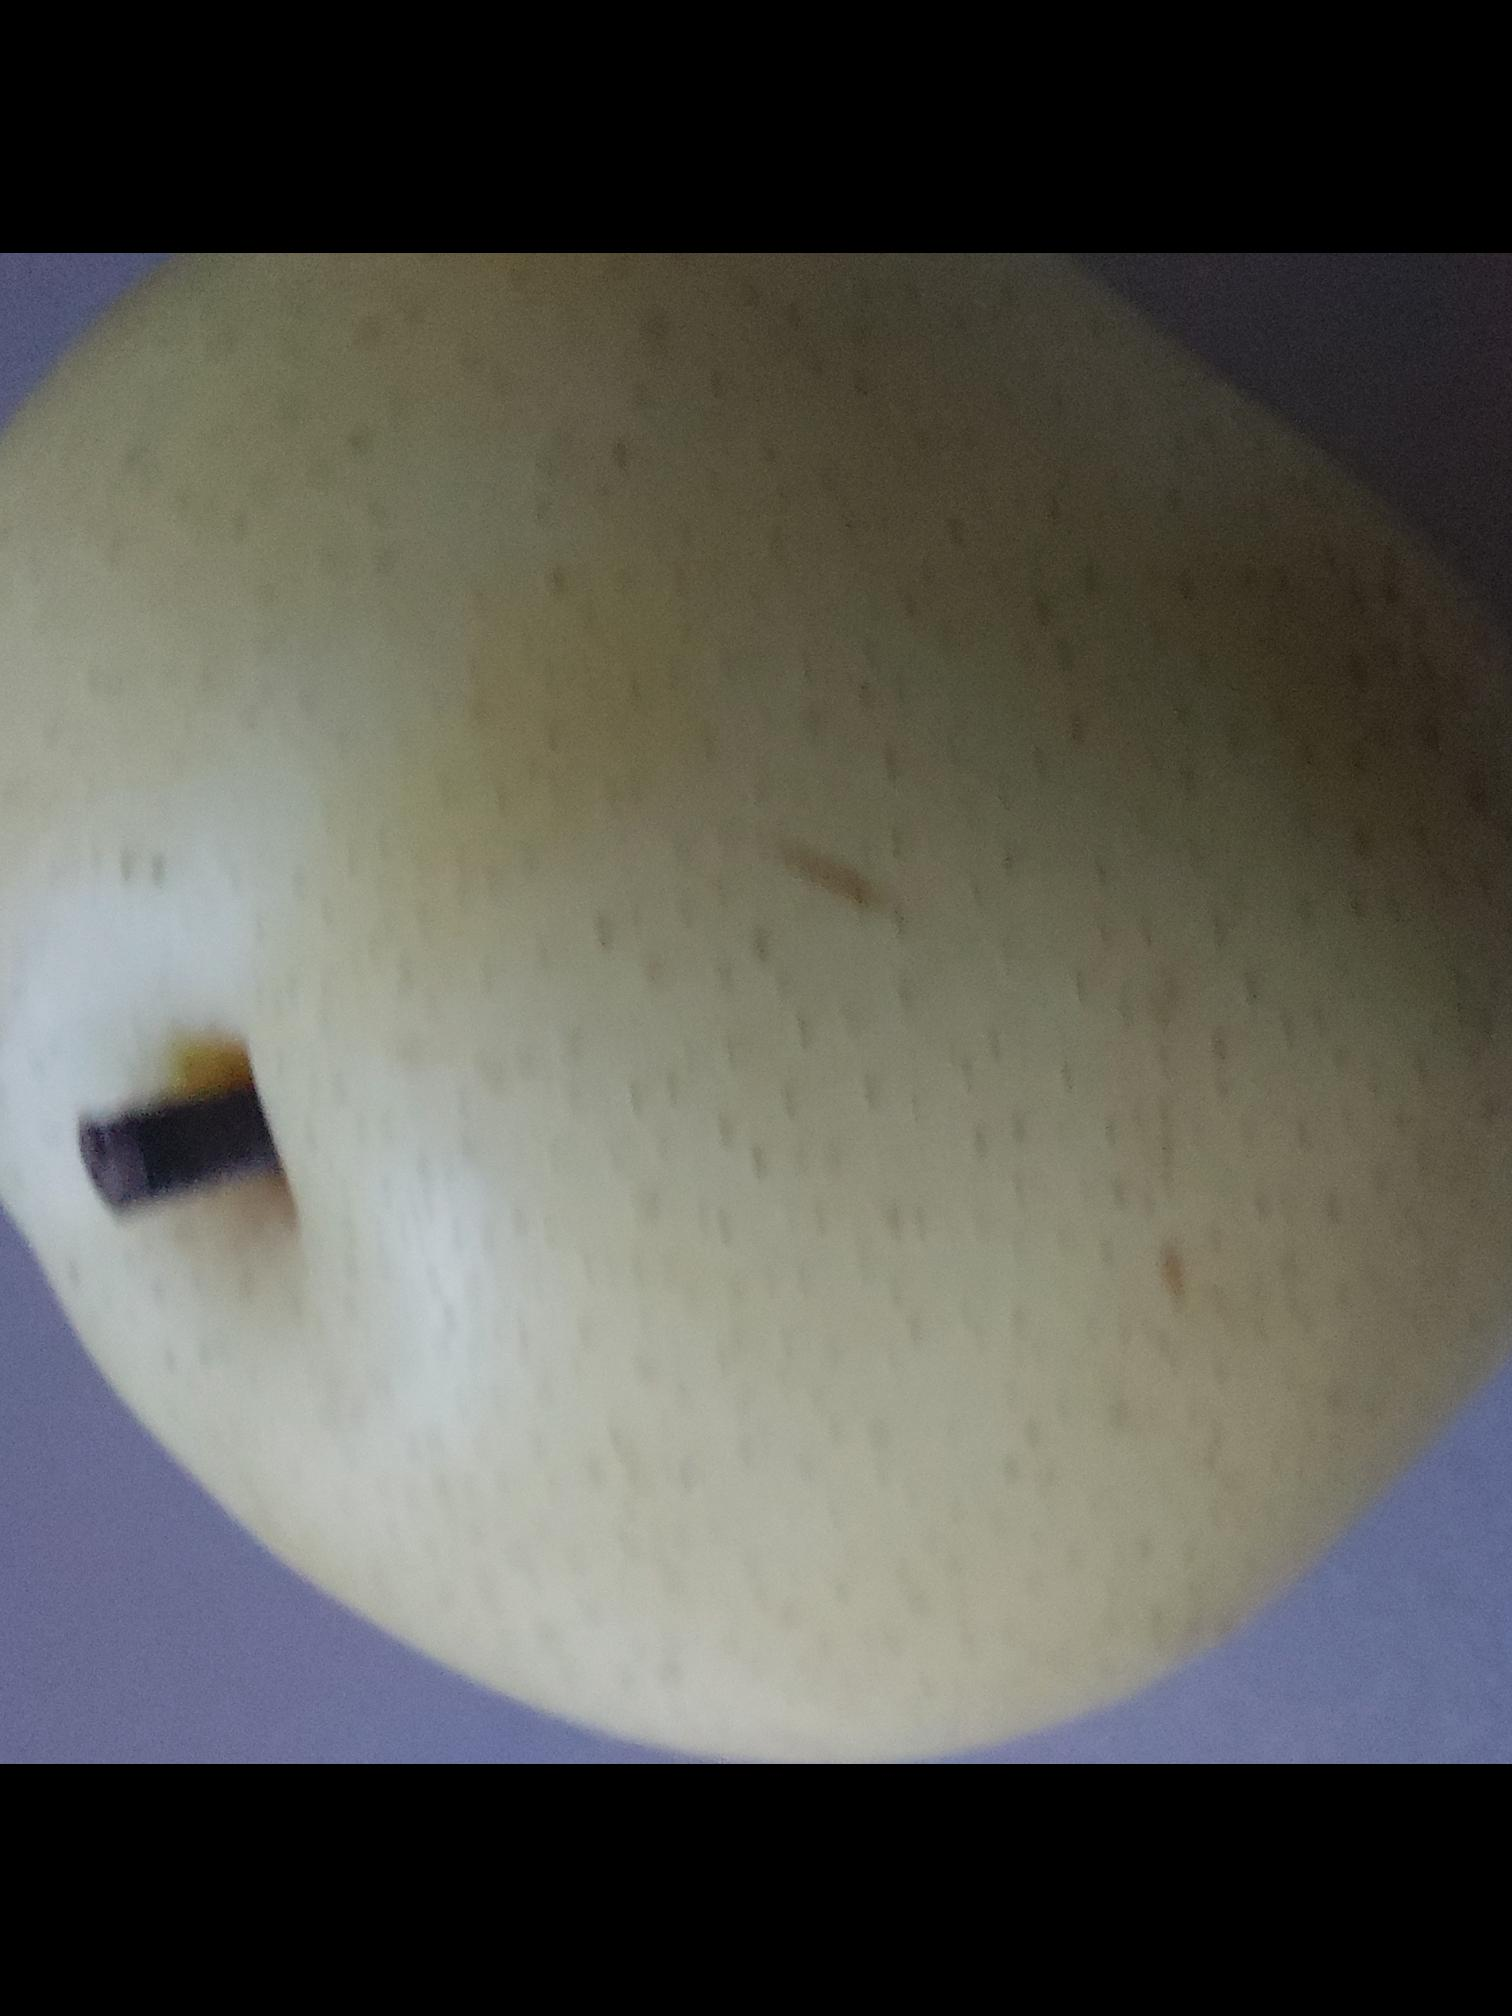Good Pear: (0, 252, 1512, 1737)
